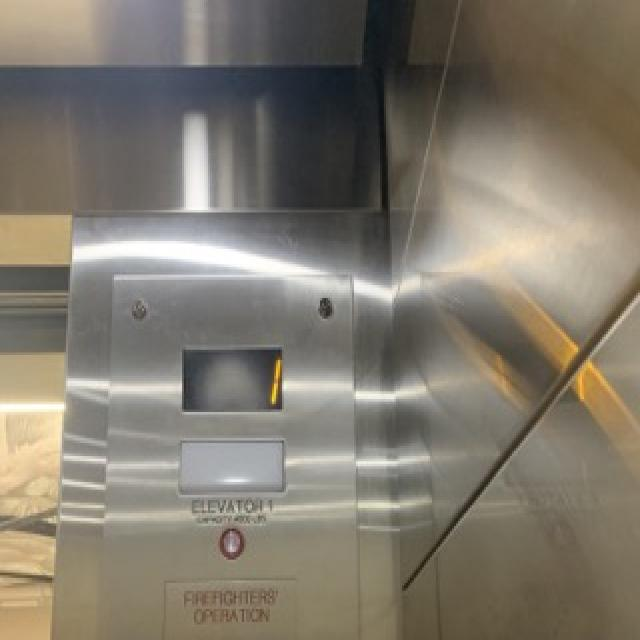box: (180, 337, 302, 422)
